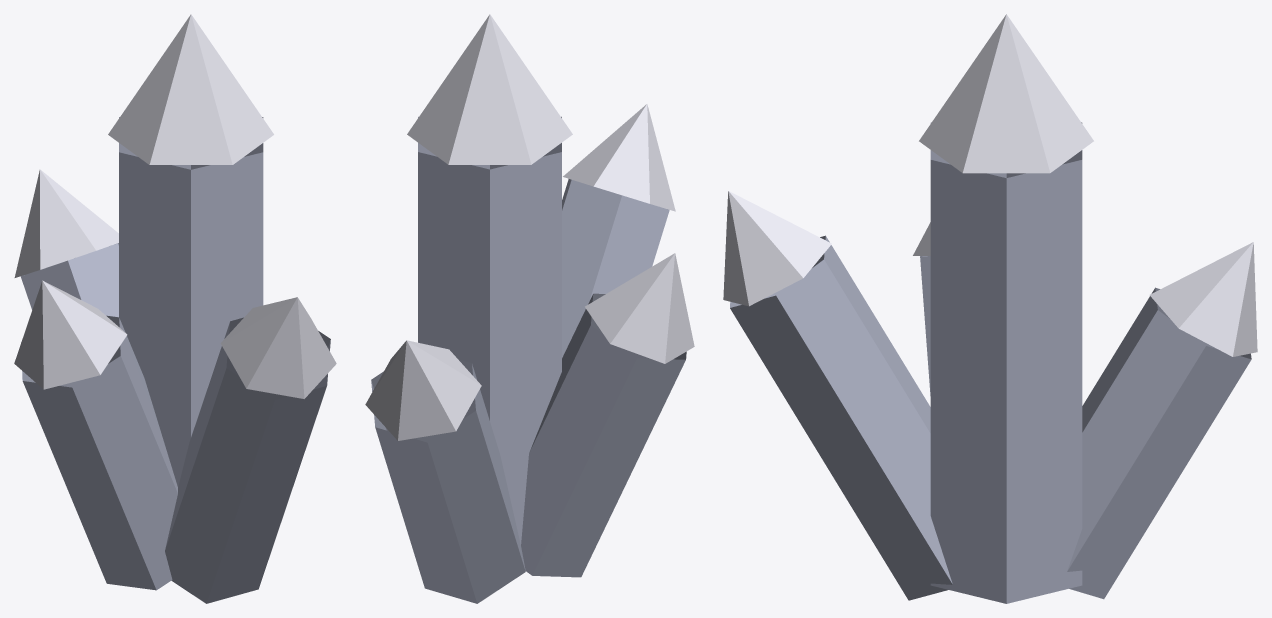
File: quartz.glb
3 renders of one model, left to right at view 1: azimuth 30°, elevation 25°; view 2: azimuth 150°, elevation 25°; view 3: azimuth 270°, elevation 25°, orthographic. The views are drawn at different scales.
Visible parts, largest first — view 1: quartz; view 2: quartz; view 3: quartz.
Boxes of the visible parts, x1=… form: quartz: x1=14, y1=14, x2=336, y2=603; quartz: x1=365, y1=14, x2=694, y2=603; quartz: x1=723, y1=14, x2=1257, y2=603.
Bounding box in the file's own units: 0.4945 × 1.02 × 0.8529.
